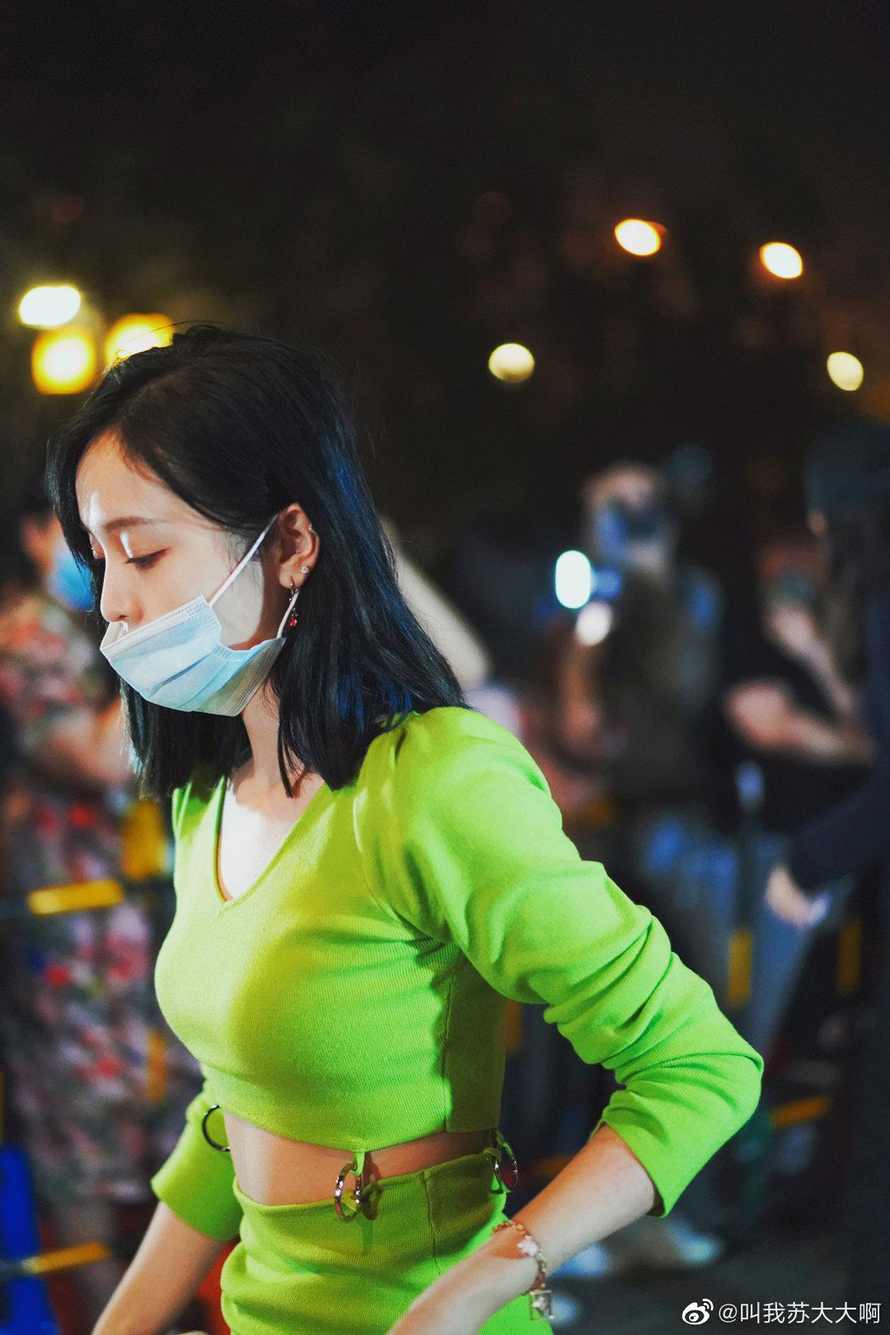WRONG: (80, 481, 261, 722)
